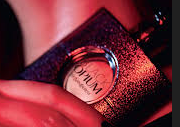ysl_black_opium: (18, 5, 169, 119)
